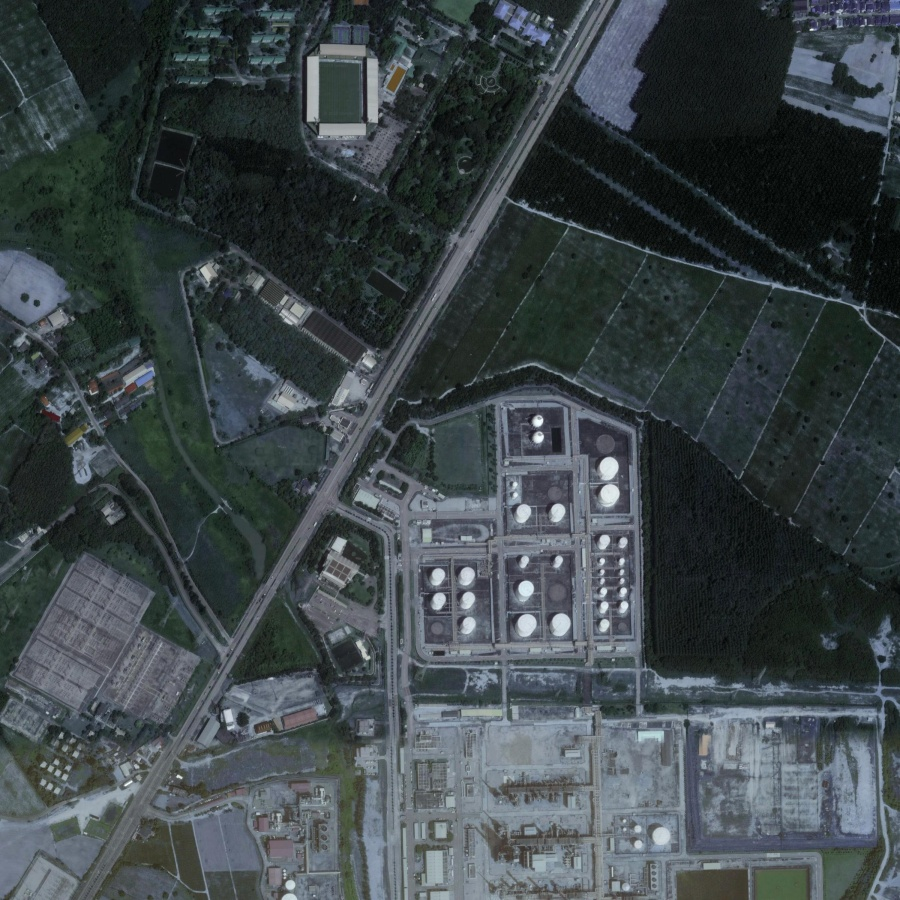PowerPlant: (366, 392, 644, 675)
